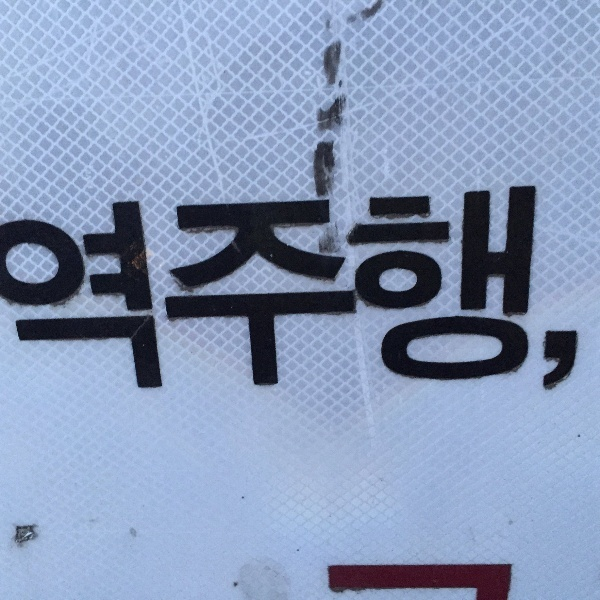text: (17, 177, 32, 402), (33, 177, 48, 402), (49, 177, 64, 402), (65, 177, 80, 402), (81, 177, 96, 402), (97, 177, 112, 402), (113, 177, 128, 402), (129, 177, 144, 402), (145, 177, 160, 402), (161, 177, 176, 402), (177, 177, 192, 402), (193, 177, 208, 402), (209, 177, 224, 402), (225, 177, 240, 402), (241, 177, 256, 402), (257, 177, 272, 402), (273, 177, 288, 402), (289, 177, 304, 402), (305, 177, 320, 402), (321, 177, 336, 402), (337, 177, 352, 402), (353, 177, 368, 402), (369, 177, 384, 402), (385, 177, 400, 402), (401, 177, 416, 402), (417, 177, 432, 402), (433, 177, 448, 402), (449, 177, 464, 402), (465, 177, 480, 402), (481, 177, 496, 402), (497, 177, 512, 402), (513, 177, 528, 402), (529, 177, 544, 402), (545, 177, 560, 402), (561, 177, 576, 402), (2, 177, 16, 402), (577, 177, 585, 402), (337, 559, 352, 600), (353, 559, 368, 600), (369, 559, 384, 600), (385, 559, 400, 600), (401, 559, 416, 600), (417, 559, 432, 600), (433, 559, 448, 600), (449, 559, 464, 600), (465, 559, 480, 600), (481, 559, 496, 600), (497, 559, 512, 600), (324, 559, 336, 600), (513, 559, 516, 600)
